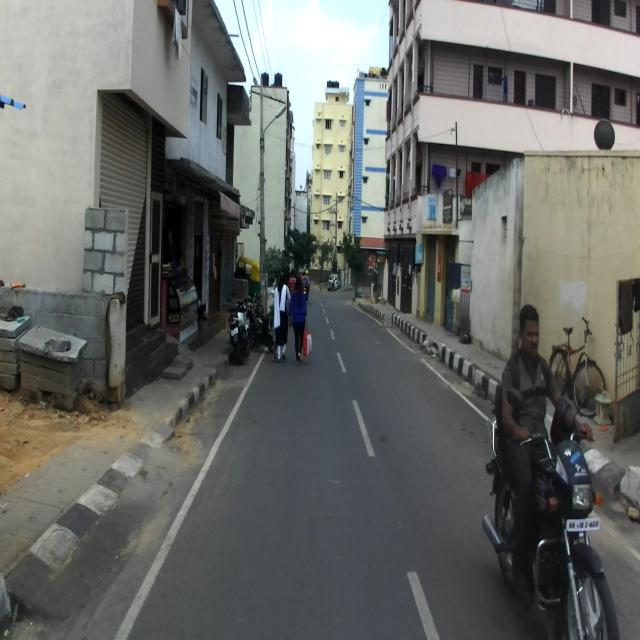autorickshaw: (233, 256, 263, 302)
car: (327, 274, 340, 290)
motorcycle: (481, 387, 622, 639), (226, 297, 253, 365), (245, 292, 273, 352), (252, 292, 274, 352), (302, 277, 312, 301)
